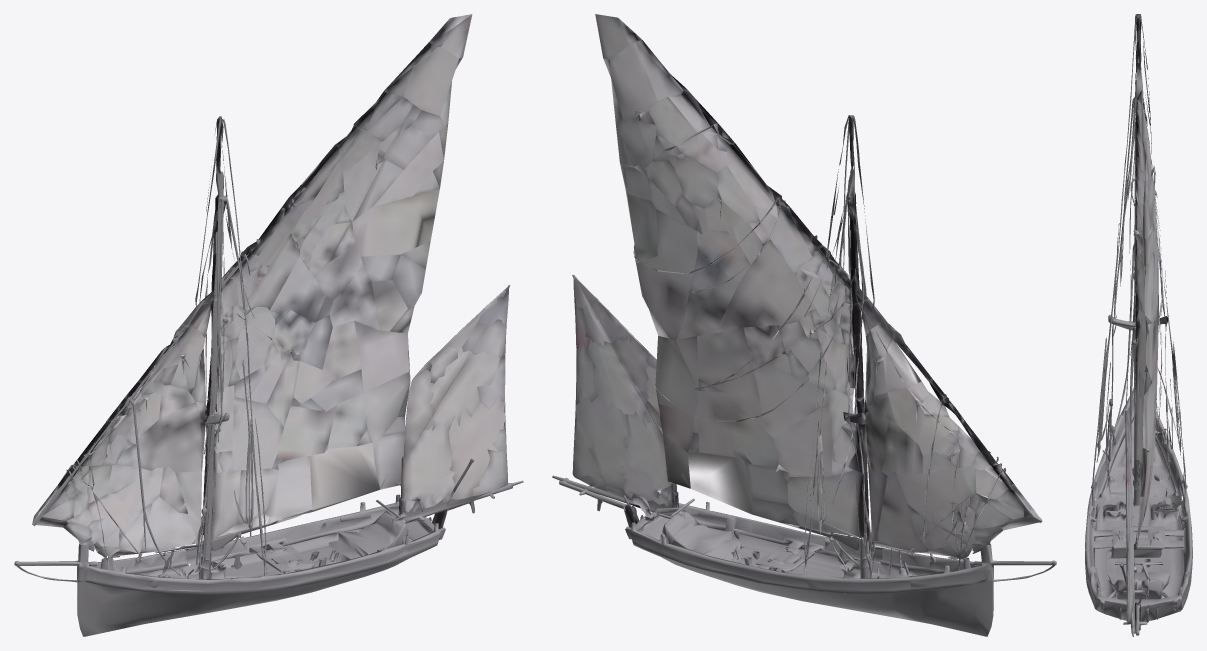
File: canoa.glb
3 renders of one model, left to right at view 1: azimuth 30°, elevation 25°; view 2: azimuth 150°, elevation 25°; view 3: azimuth 270°, elevation 25°, orthographic. The views are drawn at different scales.
Parts seen in each view (by area): view 1: Vela, lite_static, Vela_mezena; view 2: Vela, lite_static, Vela_mezena; view 3: lite_static, Vela, Vela_mezena.
Part boxes in pixels (<box>): Vela: <box>32,14,472,559</box>; lite_static: <box>14,119,523,636</box>; Vela_mezena: <box>396,286,508,514</box>; Vela: <box>595,14,1042,559</box>; lite_static: <box>552,116,1056,636</box>; Vela_mezena: <box>570,275,678,507</box>; lite_static: <box>1085,14,1192,636</box>; Vela: <box>1135,14,1182,546</box>; Vela_mezena: <box>1120,412,1136,626</box>.
Bounding box in the file's own units: 12.65 × 12.62 × 2.19.
2 materials, 1 textured.
